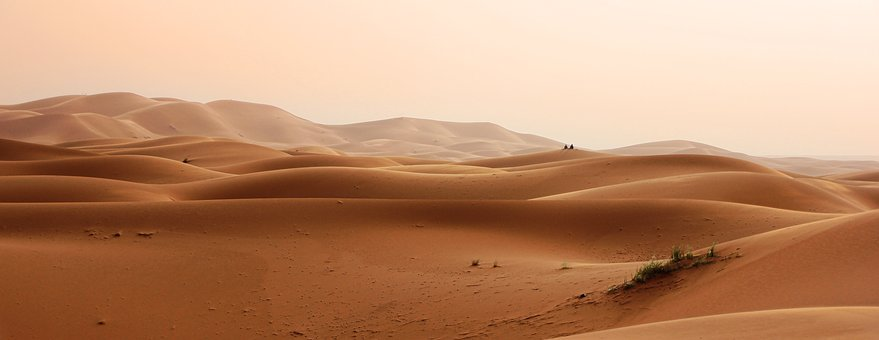ground: (16, 100, 869, 340)
sky: (6, 3, 879, 126)
